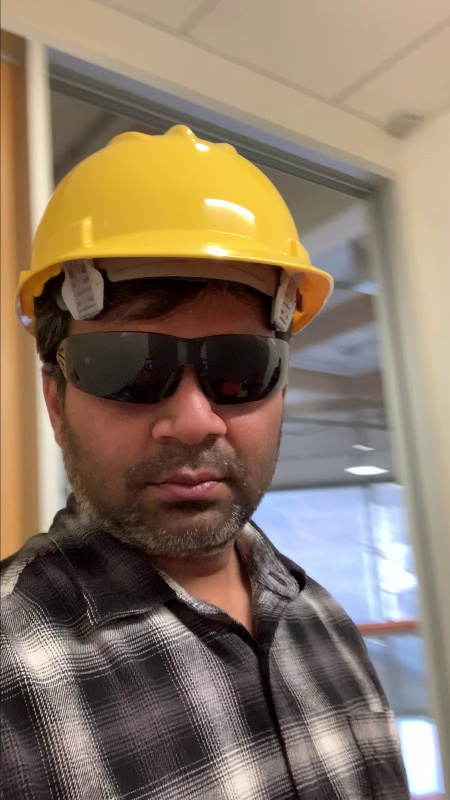glasses: (49, 336, 302, 398)
helmet: (21, 120, 324, 262)
